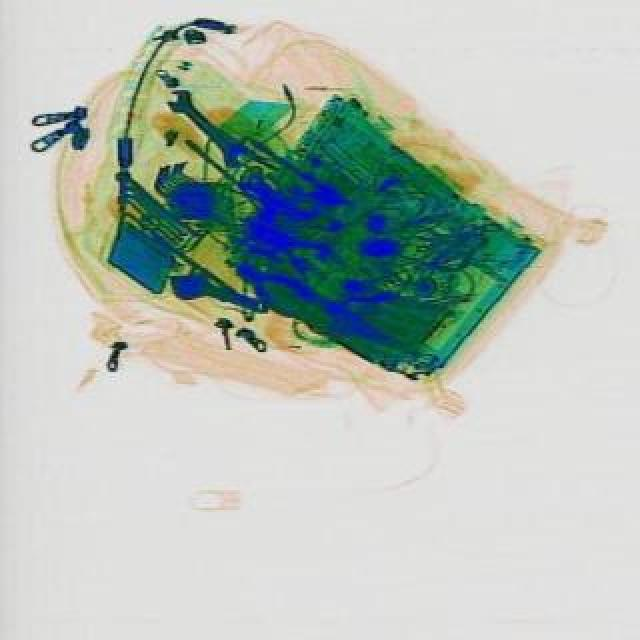scissors: (156, 82, 252, 170)
wrench: (224, 250, 312, 320)
